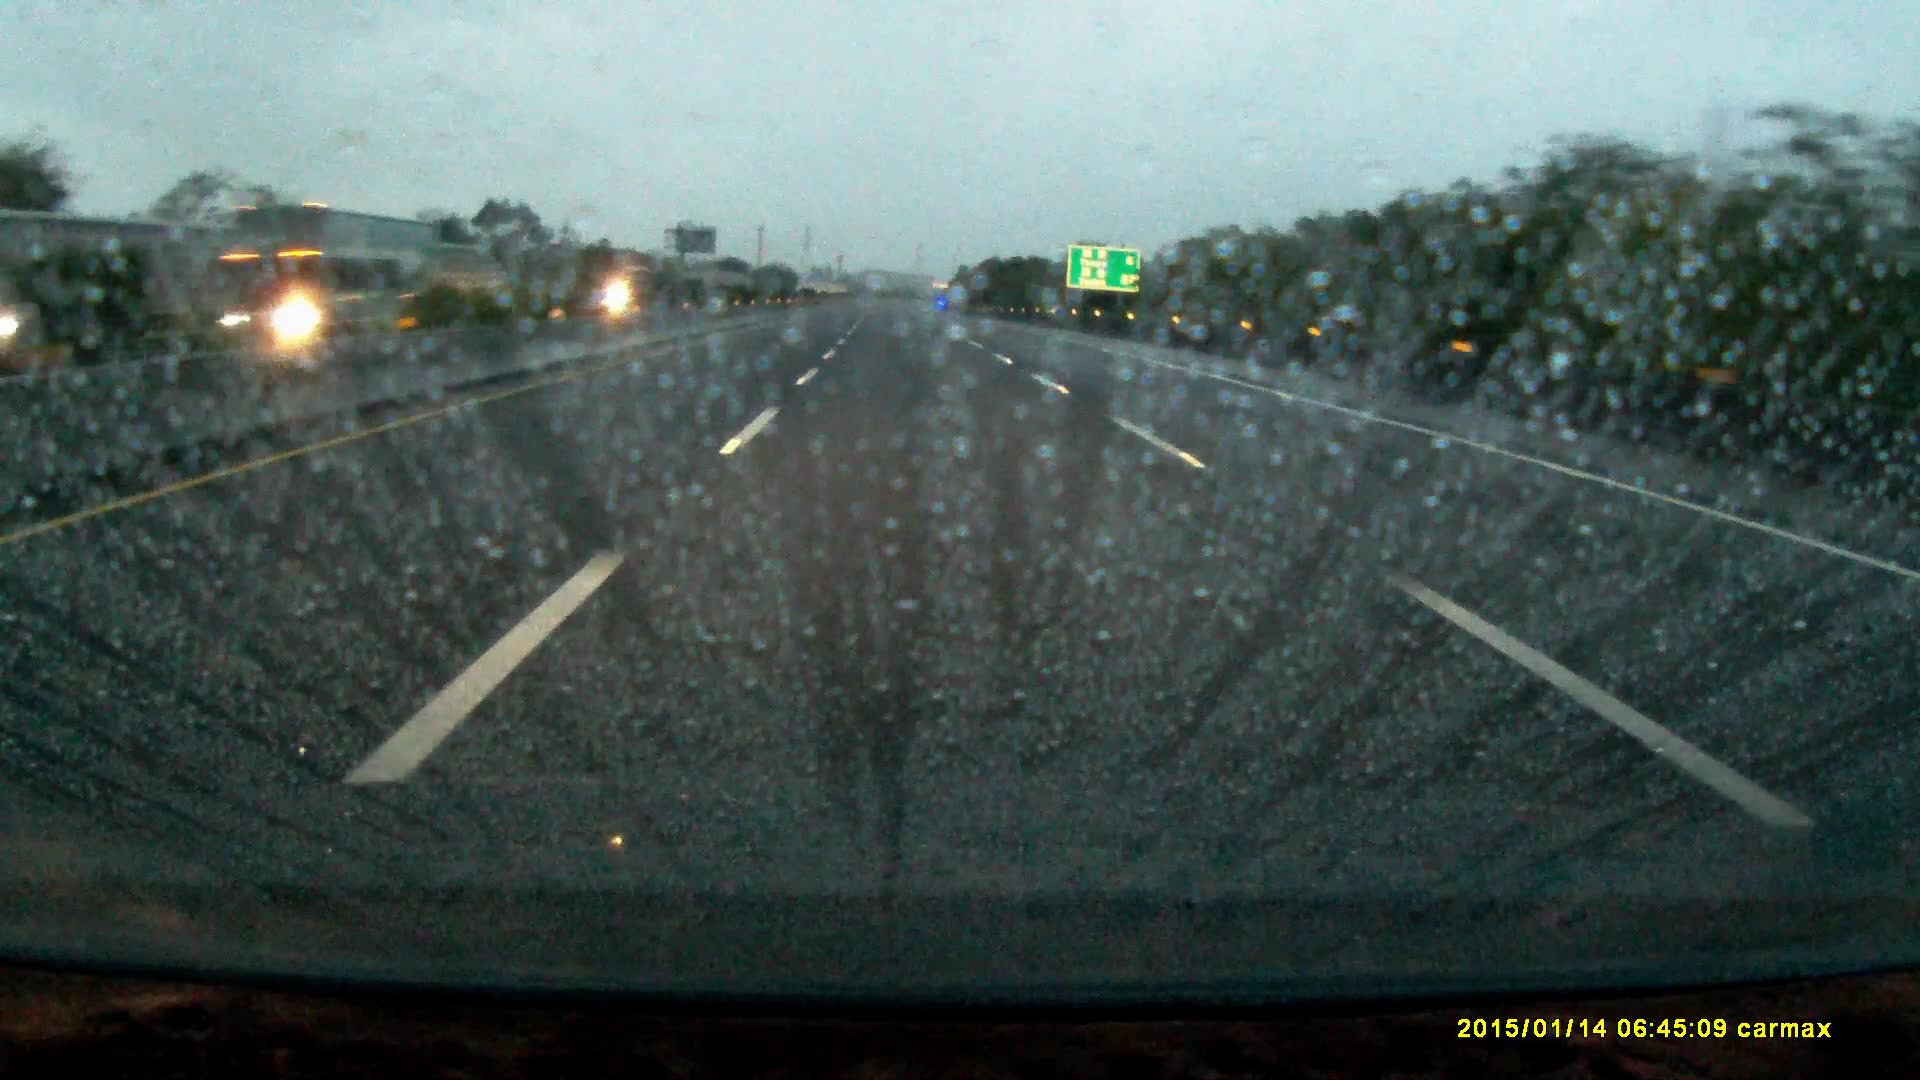vehicle: (228, 200, 440, 332), (616, 266, 678, 307)
